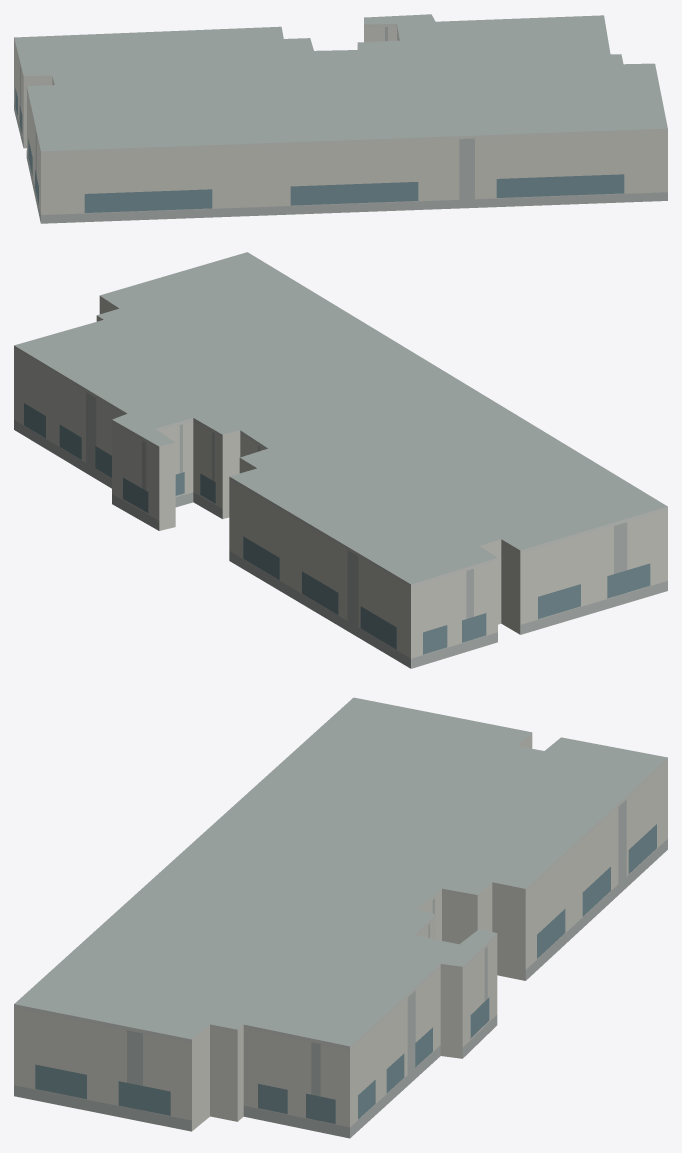
Rendered from survey-upis-32913114.glb.
3 views of the same model, one above another, from view 1: azimuth 30°, elevation 25°; view 2: azimuth 150°, elevation 25°; view 3: azimuth 270°, elevation 25° (orthographic). The views are drawn at different scales.
Visible parts, largest first — view 1: survey-upis-32913114.tmp; view 2: survey-upis-32913114.tmp; view 3: survey-upis-32913114.tmp.
Part boxes in pixels (box(x1,y1,x2,y2)): survey-upis-32913114.tmp: box(14, 14, 667, 223); survey-upis-32913114.tmp: box(14, 252, 667, 668); survey-upis-32913114.tmp: box(14, 697, 667, 1138).
Size of the model in its own units: 49.58 by 6.1 by 39.26.
